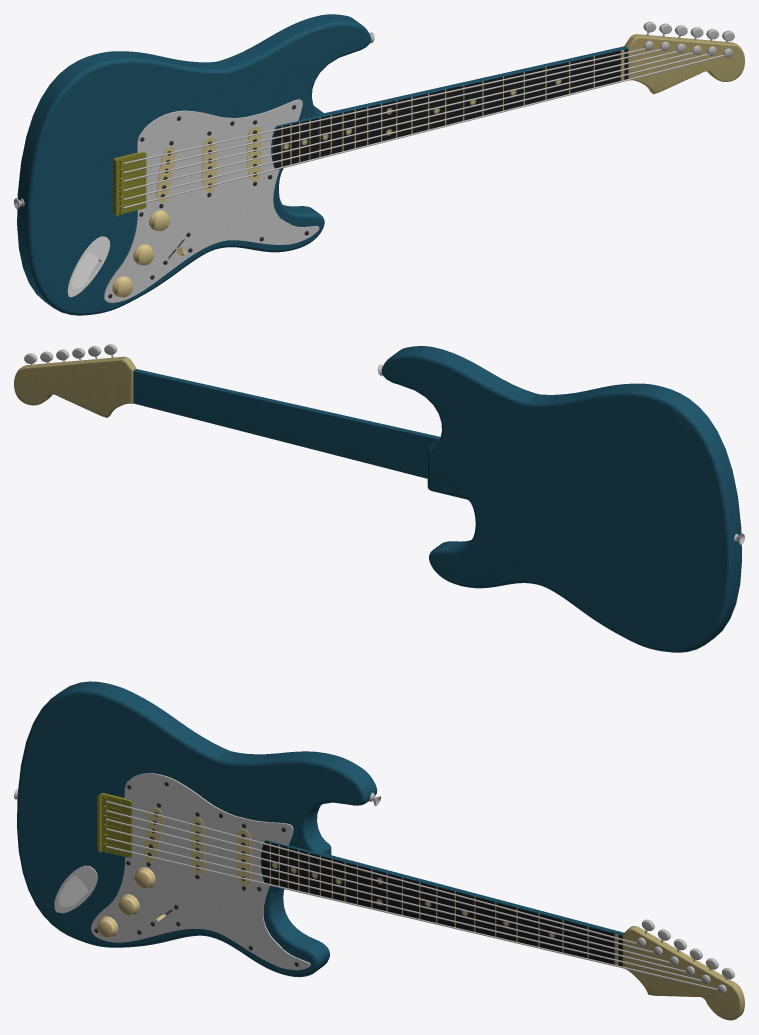
The model's file is fender_stratocaster_guitar_blue.glb.
The picture shows the model from 3 angles, top to bottom: view 1: azimuth 30°, elevation 25°; view 2: azimuth 150°, elevation 25°; view 3: azimuth 330°, elevation 25°; orthographic projection.
Parts seen in each view (by area): view 1: Guitar, BezierCurve.001, Strings, Cube, Buttons; view 2: Guitar; view 3: Guitar, BezierCurve.001, Strings, Cube, Buttons.
Part boxes in pixels (x1,y1,x2,y2): Guitar: (14,14,744,315); BezierCurve.001: (104,99,319,302); Strings: (123,41,732,208); Cube: (112,151,146,216); Buttons: (112,210,185,297); Guitar: (14,344,744,652); Guitar: (14,681,744,1020); BezierCurve.001: (91,773,310,970); Strings: (106,800,726,994); Cube: (97,792,132,857); Buttons: (97,867,165,937).
Size of the model in its own units: 4.99 by 1.66 by 0.2583.
2 materials, 1 textured.
